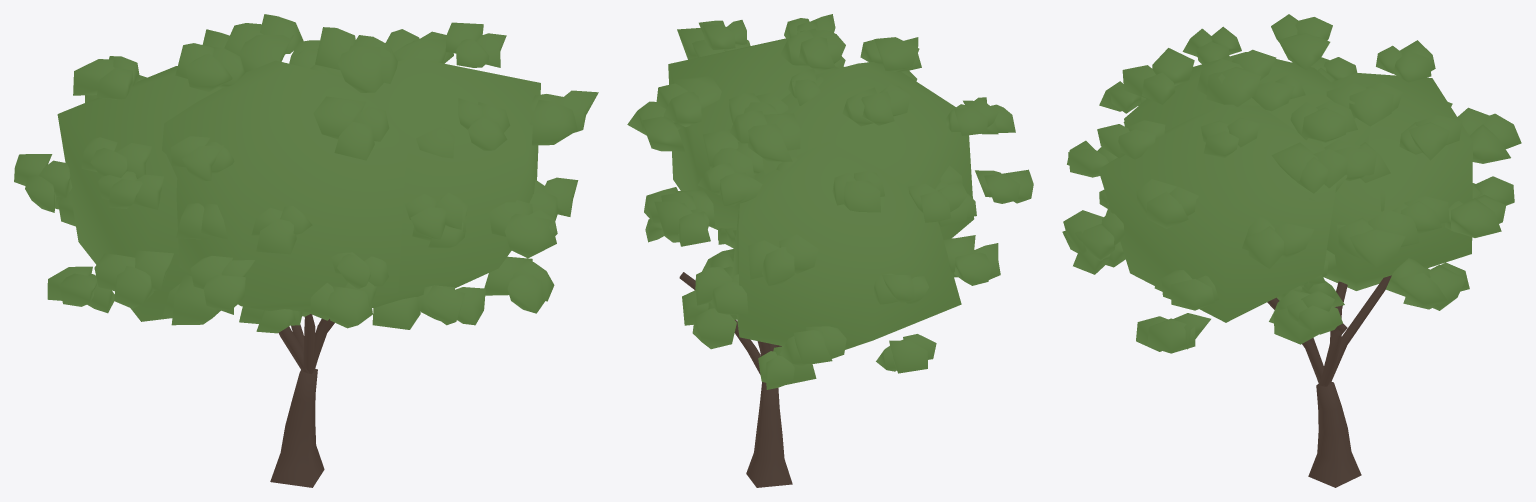
File: Blender_AfricanSumac_1_Far.glb
3 views of the same model, side by side, from view 1: azimuth 30°, elevation 25°; view 2: azimuth 150°, elevation 25°; view 3: azimuth 270°, elevation 25° (orthographic). The views are drawn at different scales.
Visible parts, largest first — view 1: Blender_AfricanSumac_1_Far; view 2: Blender_AfricanSumac_1_Far; view 3: Blender_AfricanSumac_1_Far.
Part boxes in pixels (x1,y1,x2,y2): Blender_AfricanSumac_1_Far: [14, 14, 598, 487]; Blender_AfricanSumac_1_Far: [627, 14, 1033, 487]; Blender_AfricanSumac_1_Far: [1062, 14, 1521, 487].
Size of the model in its own units: 8.79 by 9.34 by 9.19.
